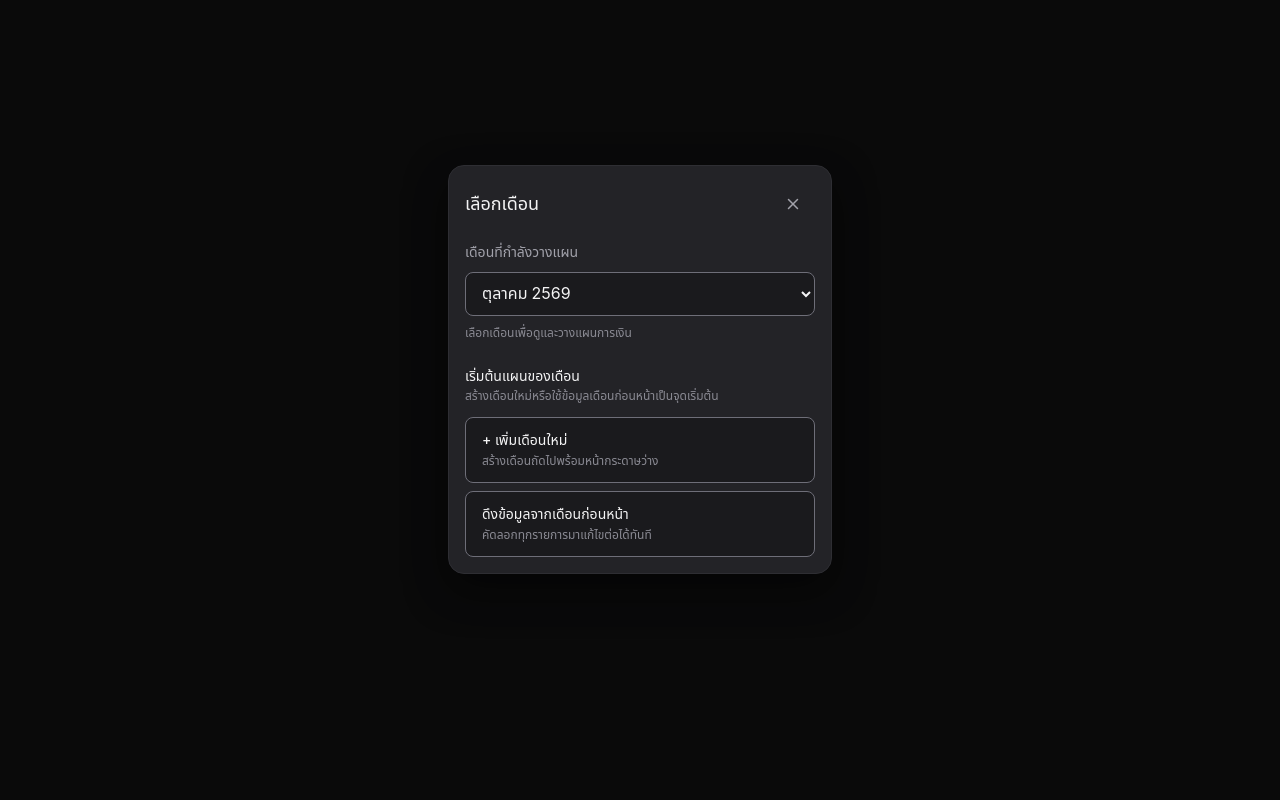
Scenario: MonthManager create month › confirm on the prune dialog saves and selects the new month
Step 1. Click the button labelled "เพิ่มเดือนใหม่" → click(640, 450), box [465,417,815,483]
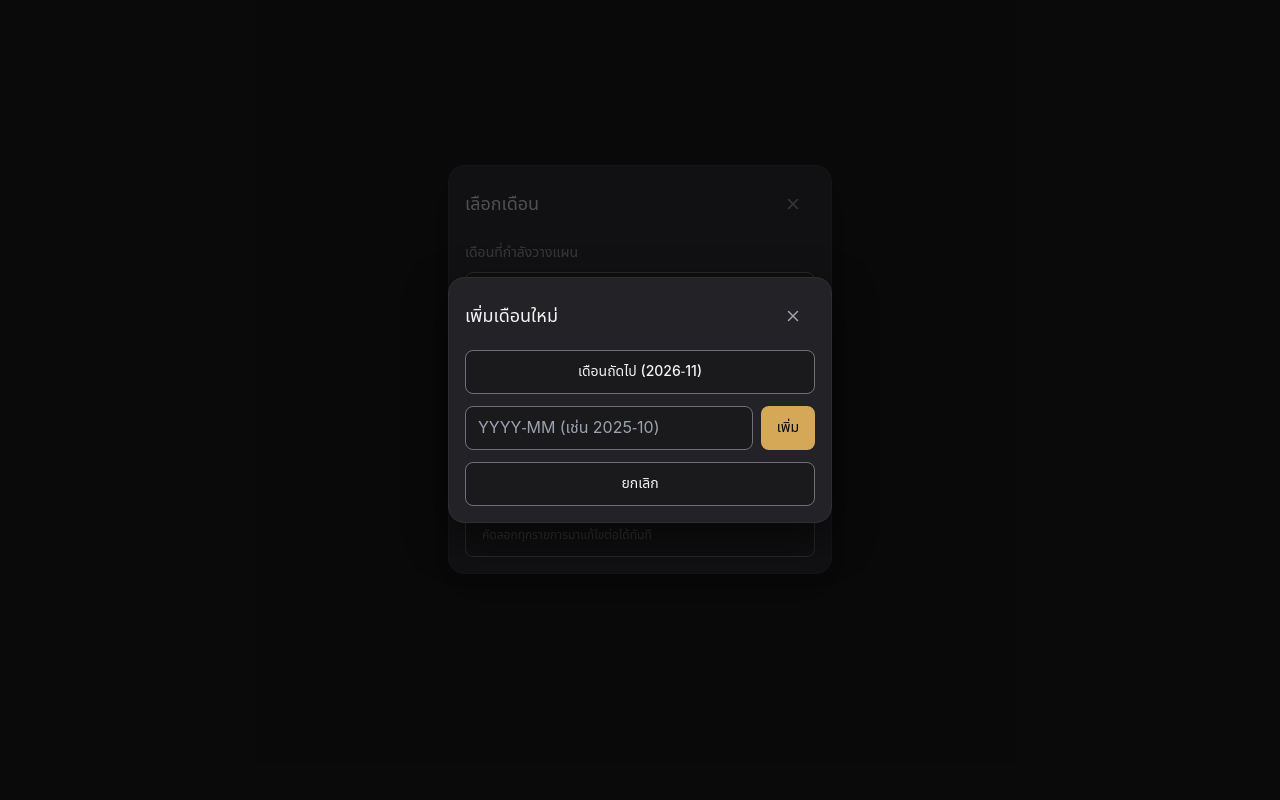
Step 2. Click the button with aria-label "เพิ่มเดือนถัดไป (2026-11)" → click(640, 372), box [465,350,815,394]
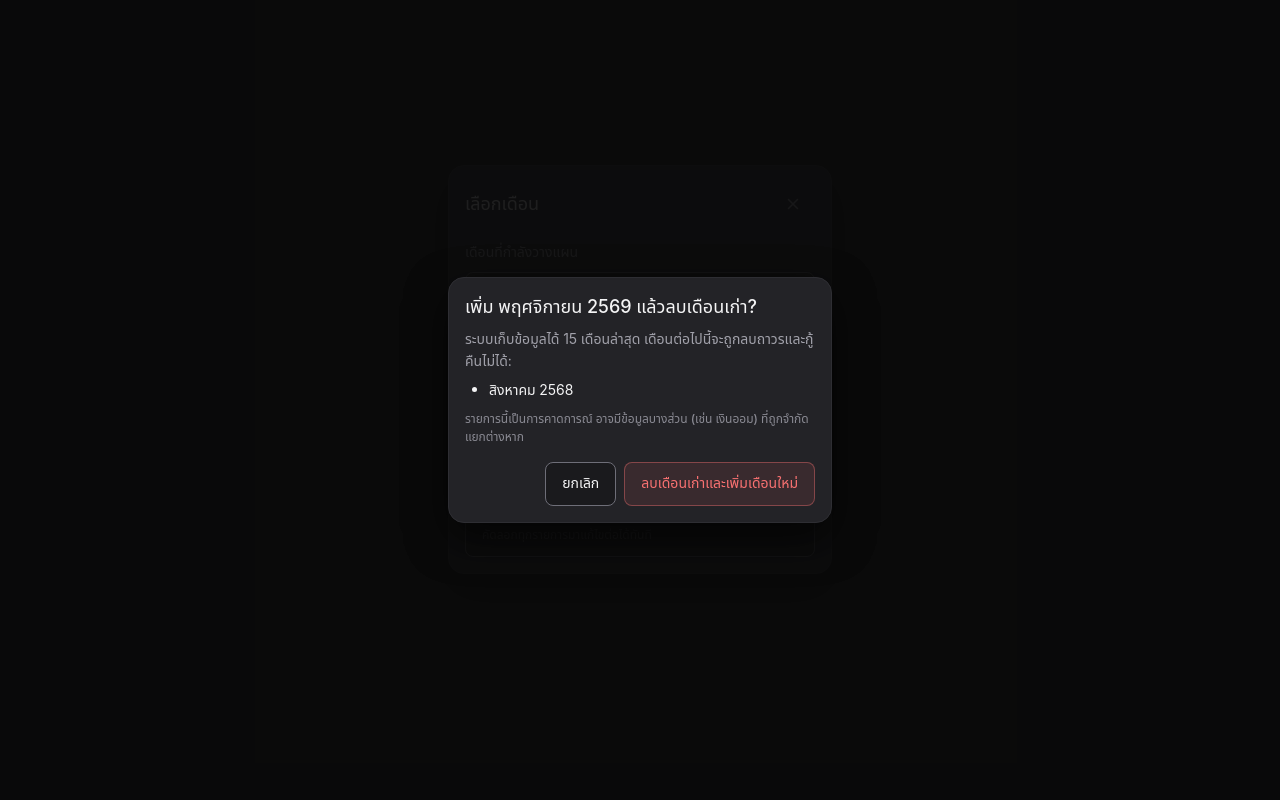
Now the dialog is shown, box [448,277,832,523]
Step 3. Click the button "ลบเดือนเก่าและเพิ่มเดือนใหม่" → click(720, 484), box [624,462,815,506]
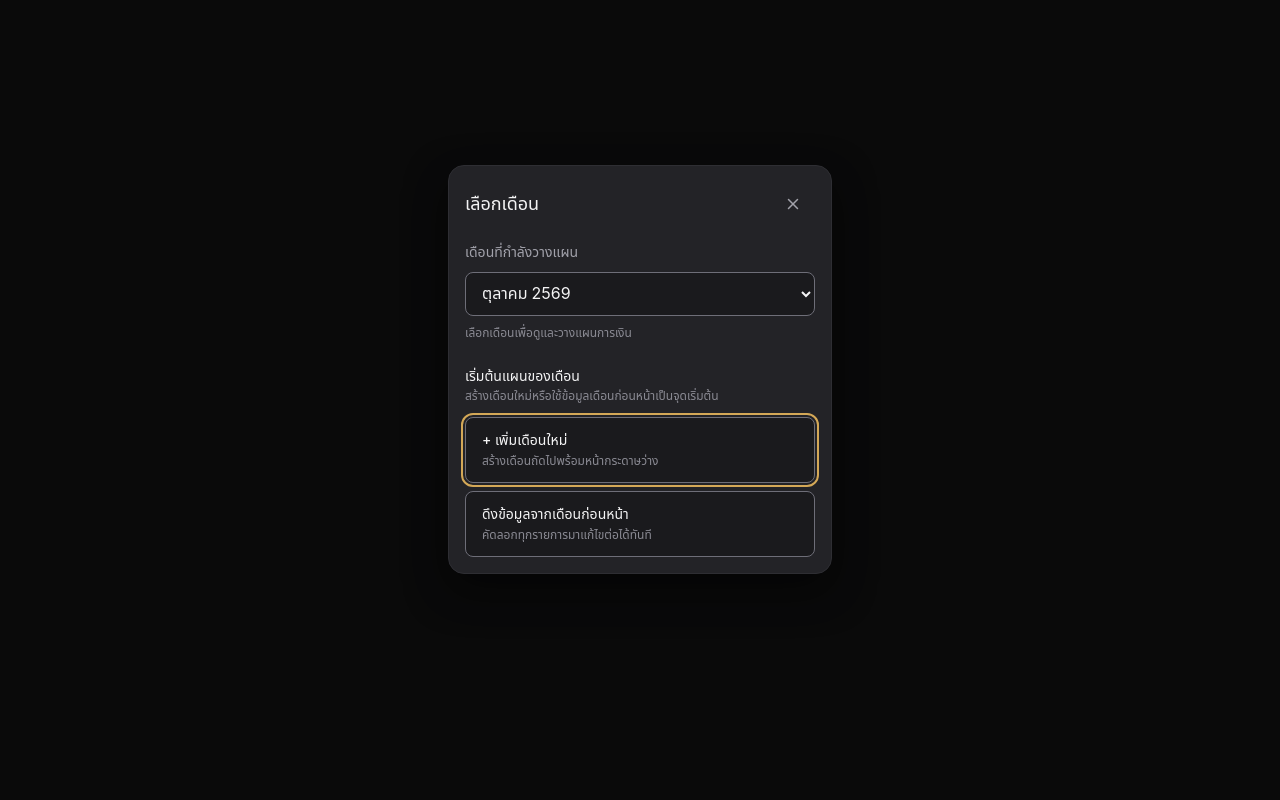
Now the dialog "เพิ่มเดือนใหม่ เดือนถัดไป (2026-11) เพิ่ม ยกเลิก" is gone
